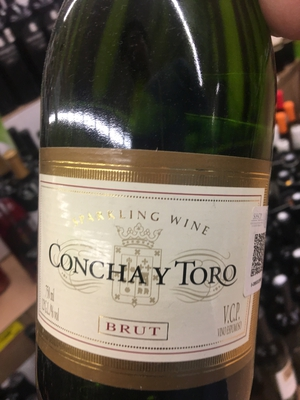brut: (33, 12, 272, 400)
